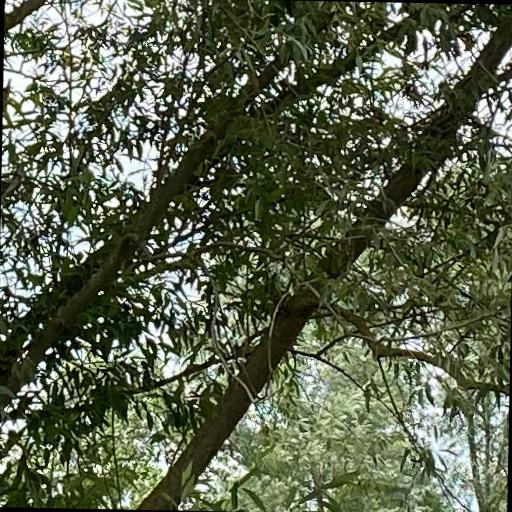tree: (1, 1, 512, 512), (11, 163, 512, 512)
